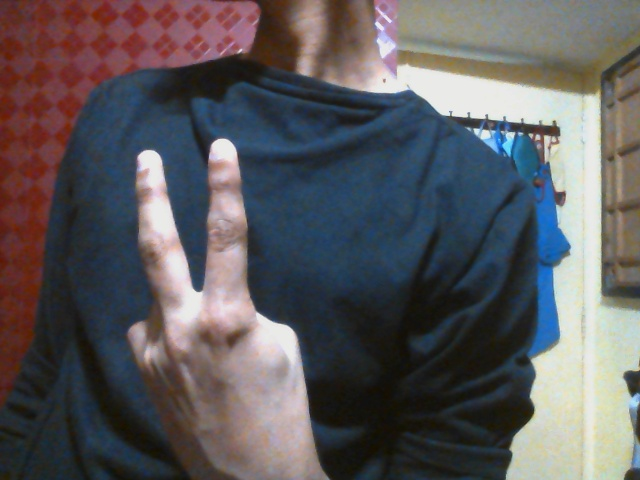V: (122, 138, 307, 469)
